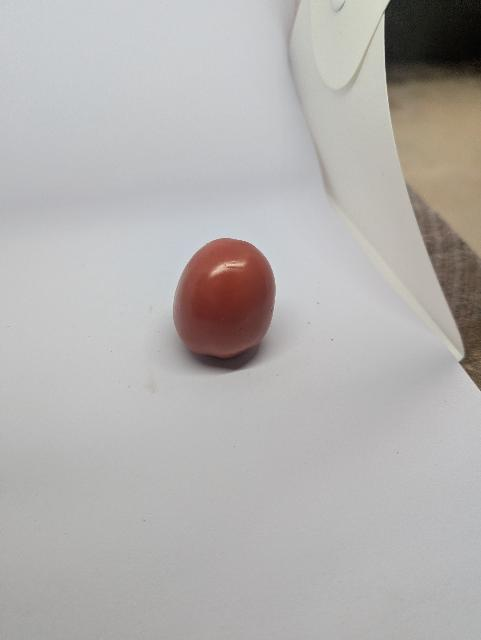red: (166, 231, 282, 377)
